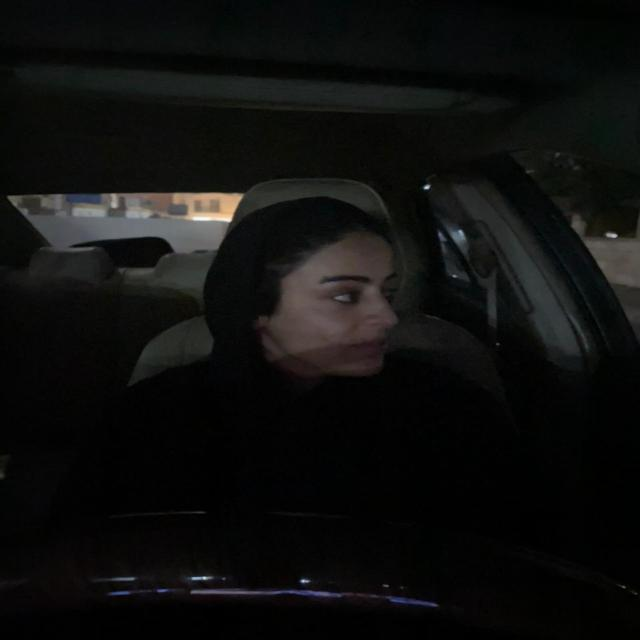LeftRight: (221, 194, 408, 384)
